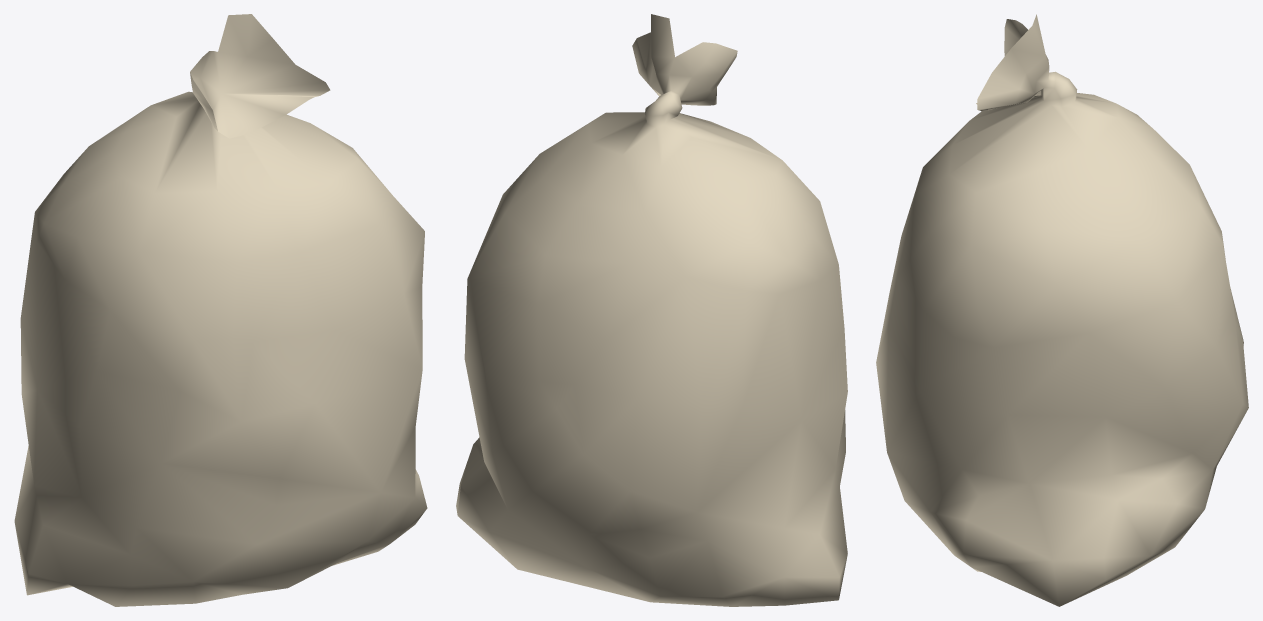
The model's file is Rubbish_Bag_A_Snaps004.FBX.
The picture shows the model from 3 angles, left to right: view 1: azimuth 30°, elevation 25°; view 2: azimuth 150°, elevation 25°; view 3: azimuth 270°, elevation 25°; orthographic projection. The views are drawn at different scales.
Parts seen in each view (by area): view 1: Geometry_Rubbish_Bag_A_LOD00; view 2: Geometry_Rubbish_Bag_A_LOD00; view 3: Geometry_Rubbish_Bag_A_LOD00.
Part boxes in pixels (left/top/right/bottom): Geometry_Rubbish_Bag_A_LOD00: left=14, top=14, right=427, bottom=606; Geometry_Rubbish_Bag_A_LOD00: left=456, top=14, right=847, bottom=606; Geometry_Rubbish_Bag_A_LOD00: left=876, top=14, right=1248, bottom=606.
Size of what is drawn, in the model's own units: 42.04 by 56.27 by 37.41.
